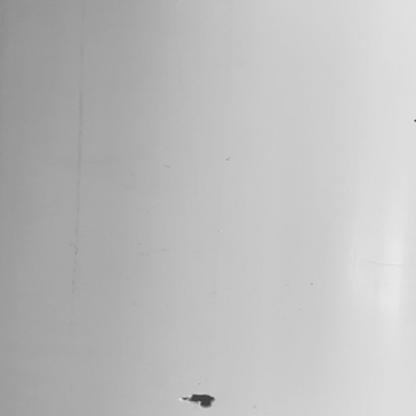kongdong: (180, 376, 234, 410)
